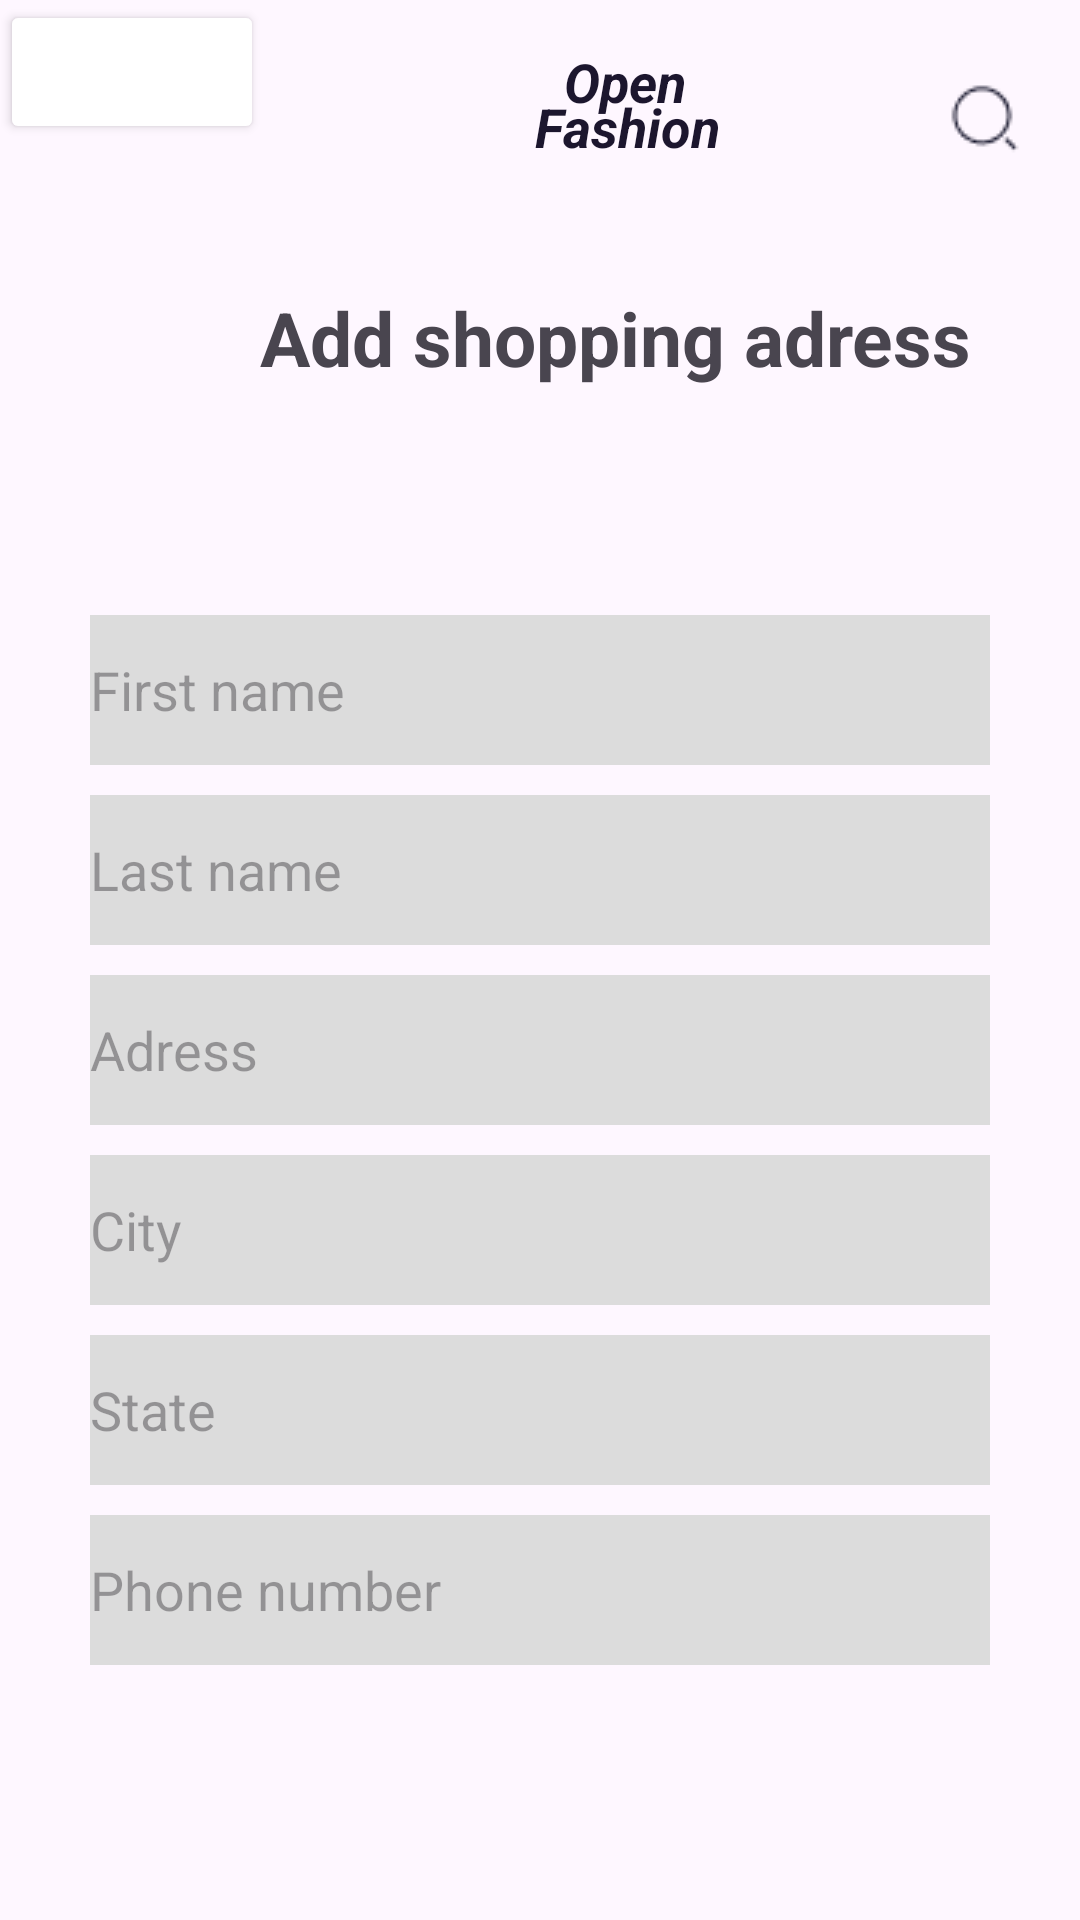

Icons on this 1080*1920 Android screen, each with its box as (x1, y1, x2, y2):
search: (951, 85, 1018, 150)
